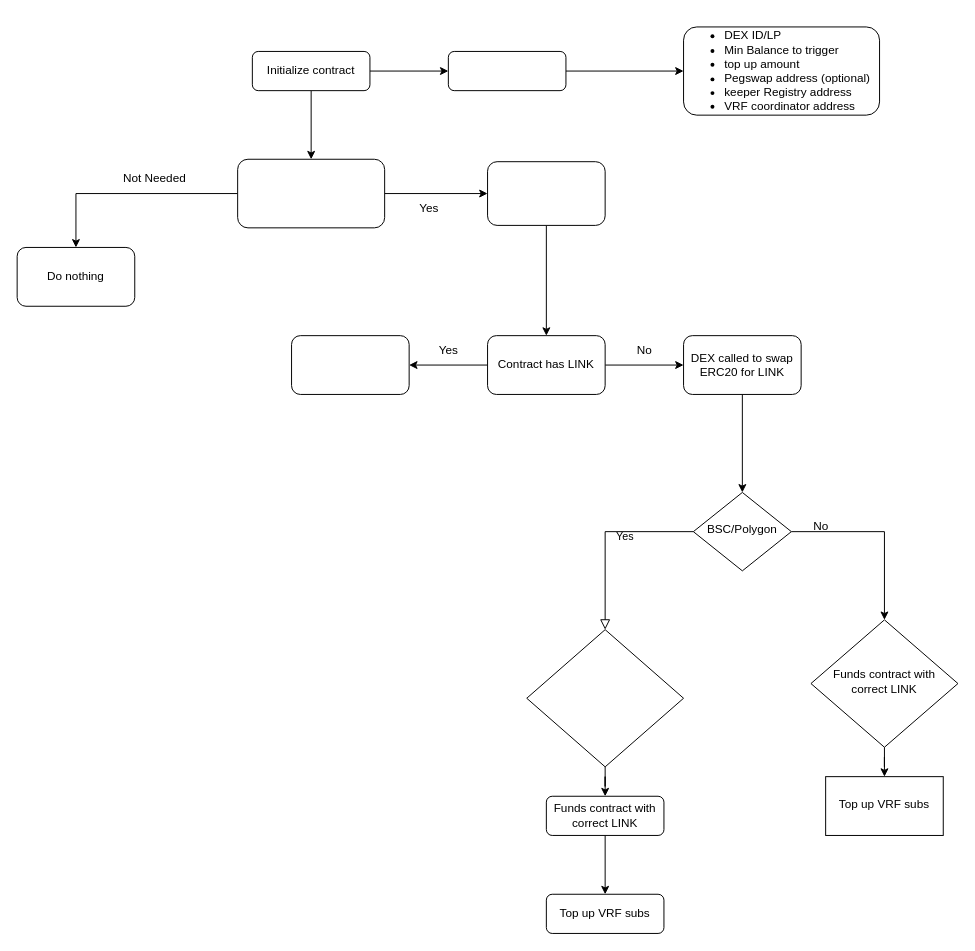
Image size: 975x951. Some labels were removed from this diagram. Each missing label, with the centre of its shape:
Check Upkeep checks vrf subcription totals against user set trigger: [311,193]
Pegswap call to swap for correct LINK: [605,698]
Perform Upkeep: [546,193]
top up VRF sub: [350,364]
User sets: [506,70]
